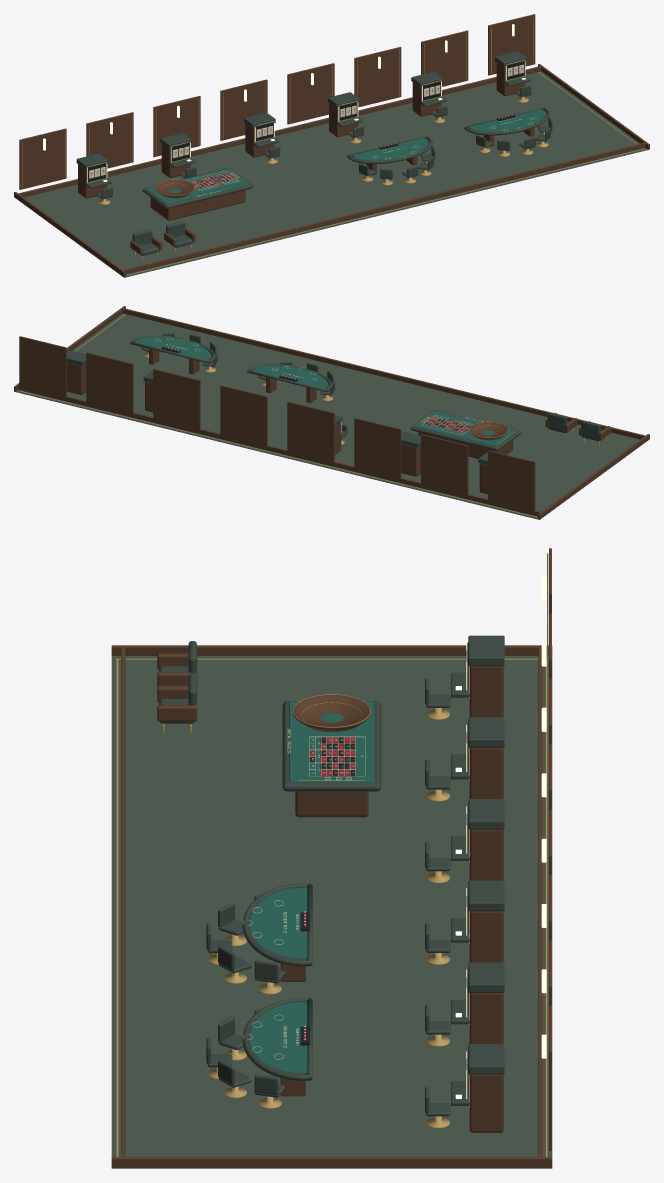
File: casino-kit.glb
3 views of the same model, one above another, from view 1: azimuth 30°, elevation 25°; view 2: azimuth 150°, elevation 25°; view 3: azimuth 270°, elevation 25° (orthographic). The views are drawn at different scales.
Visible parts, largest first — view 1: Meridian carpet, Meridian walnut, Meridian leather, Meridian brass, Meridian felt, Meridian ivory, Meridian black, Meridian warm light; view 2: Meridian walnut, Meridian carpet, Meridian leather, Meridian felt, Meridian brass, Meridian ivory; view 3: Meridian carpet, Meridian walnut, Meridian leather, Meridian felt, Meridian brass, Meridian warm light, Meridian ivory, Meridian black.
Boxes of the visible parts, box(x1,y1,x2,y2) form: Meridian carpet: box(14, 71, 649, 277); Meridian walnut: box(14, 14, 649, 276); Meridian leather: box(76, 51, 552, 255); Meridian brass: box(22, 17, 643, 275); Meridian felt: box(146, 109, 545, 203); Meridian ivory: box(89, 61, 535, 196); Meridian black: box(88, 61, 524, 188); Meridian warm light: box(43, 24, 525, 182); Meridian walnut: box(14, 306, 649, 519); Meridian carpet: box(14, 313, 649, 519); Meridian leather: box(66, 333, 601, 464); Meridian felt: box(135, 337, 517, 446); Meridian brass: box(20, 314, 606, 517); Meridian ivory: box(155, 337, 482, 434); Meridian carpet: box(111, 656, 552, 1168); Meridian walnut: box(111, 548, 552, 1167); Meridian leather: box(159, 635, 504, 1116); Meridian felt: box(249, 701, 374, 1072); Meridian brass: box(115, 553, 548, 1156); Meridian warm light: box(455, 577, 546, 1098); Meridian ivory: box(243, 650, 467, 1069); Meridian black: box(300, 642, 468, 1098).
Bounding box in the file's own units: 31.42 × 3.23 × 11.4.
